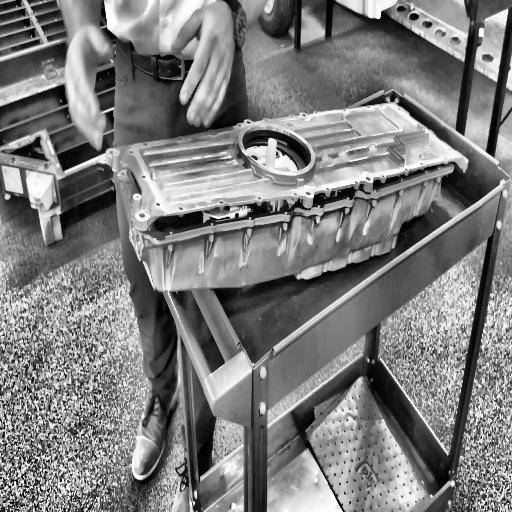bms_unit: (105, 92, 471, 298)
